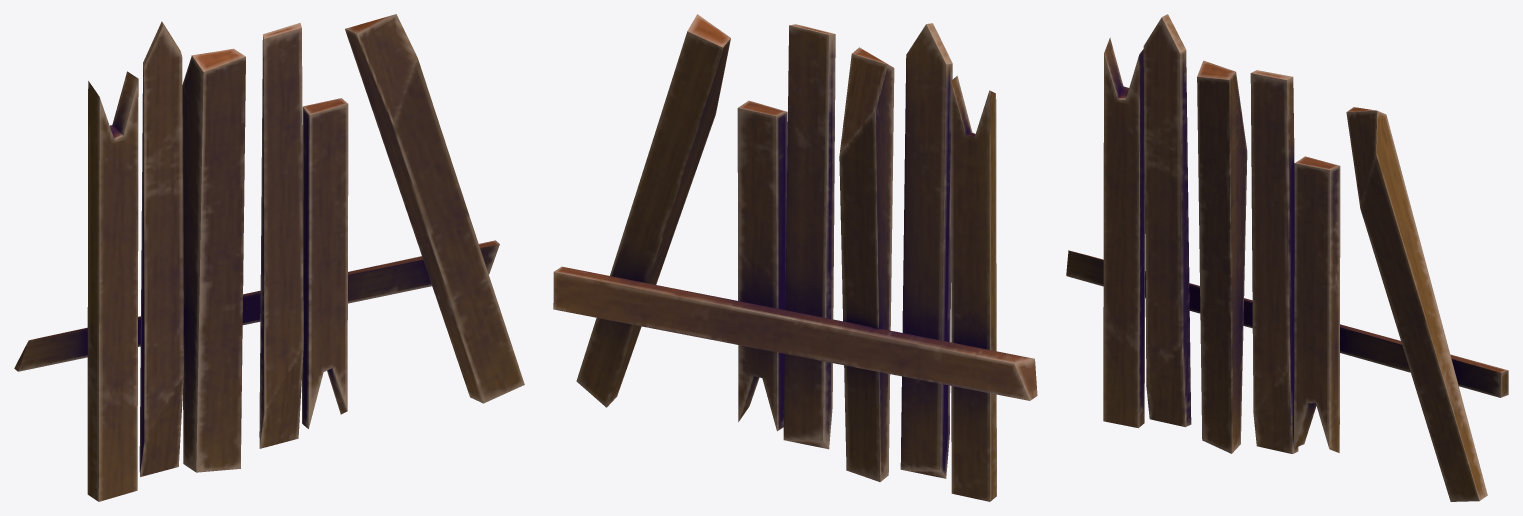
File: Fence_Plank3.fbx
The picture shows the model from 3 angles, left to right: view 1: azimuth 30°, elevation 25°; view 2: azimuth 150°, elevation 25°; view 3: azimuth 330°, elevation 25°; orthographic projection. The views are drawn at different scales.
Parts seen in each view (by area): view 1: EA03_Fence_Plank_01d_LOD0; view 2: EA03_Fence_Plank_01d_LOD0; view 3: EA03_Fence_Plank_01d_LOD0.
Boxes of the visible parts, x1=… form: EA03_Fence_Plank_01d_LOD0: x1=14, y1=14, x2=524, y2=501; EA03_Fence_Plank_01d_LOD0: x1=553, y1=14, x2=1037, y2=501; EA03_Fence_Plank_01d_LOD0: x1=1066, y1=14, x2=1508, y2=501.
Bounding box in the file's own units: 2.99 × 0.4248 × 2.75.
1 material, 1 textured.
